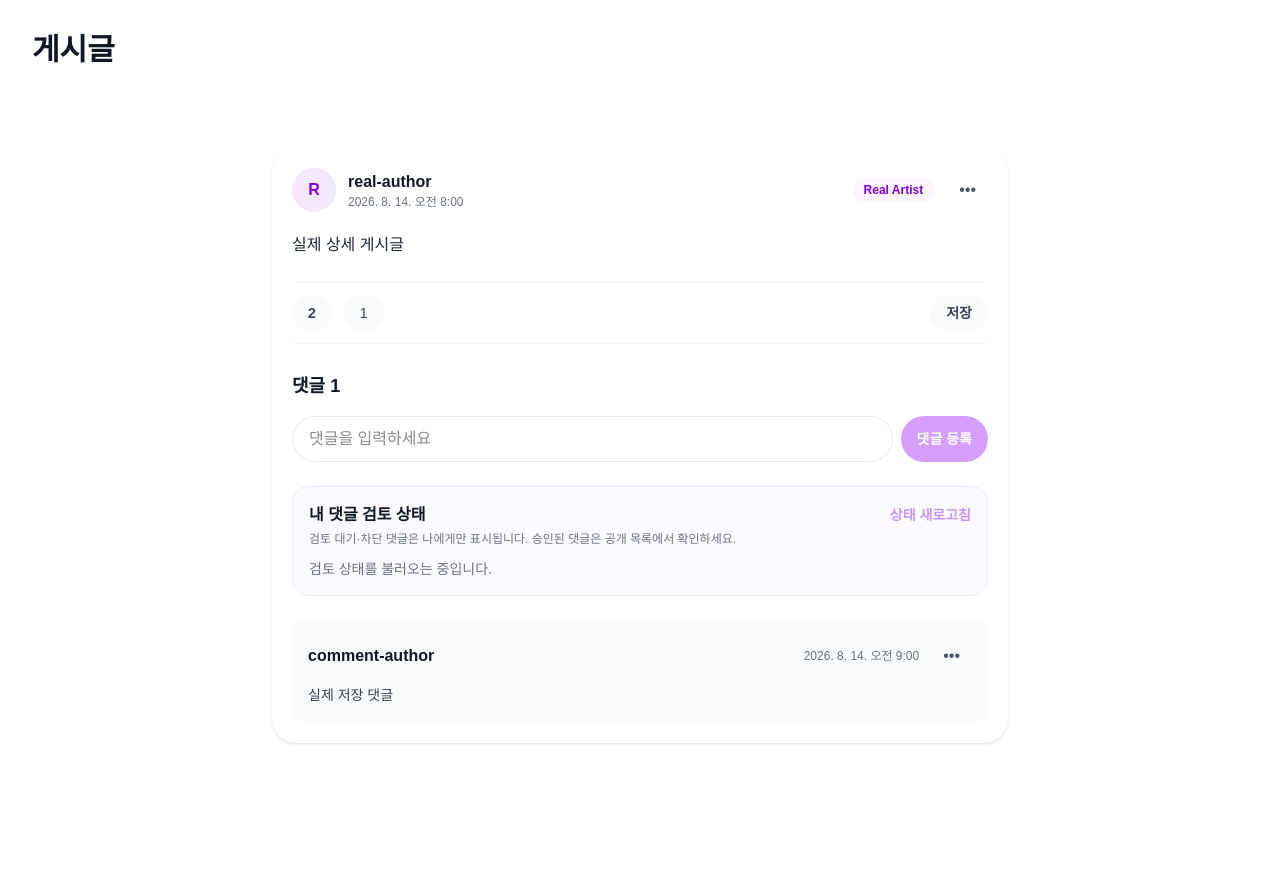
Test case: PostDetailPage › renders the server post only after successful content-only editing
Expected: the text "실제 상세 게시글" is shown, [292,236,404,253]
Click the heading named "게시글 작업" at (968, 190), box [959,181,976,198]
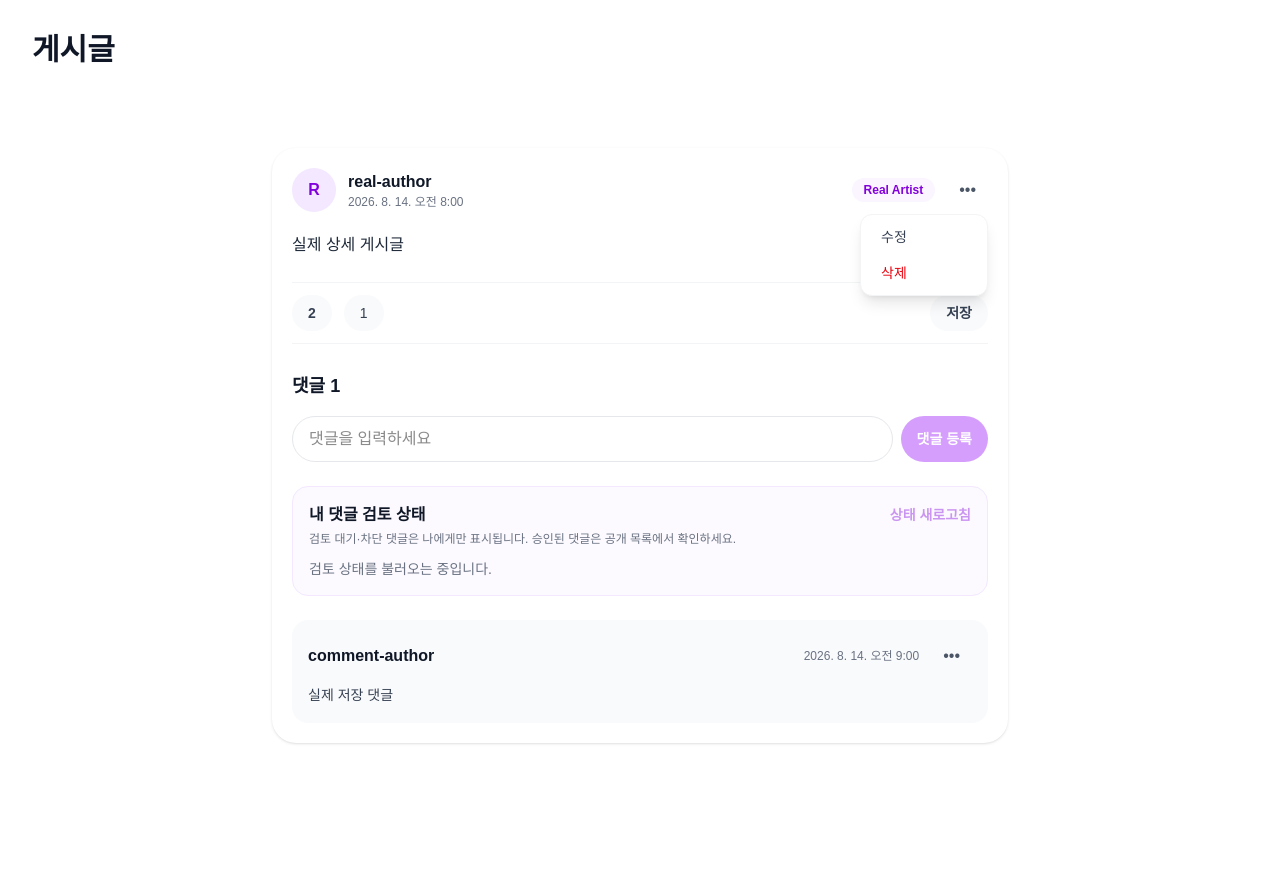
Click the button "수정" at (924, 237), box [865,219,983,255]
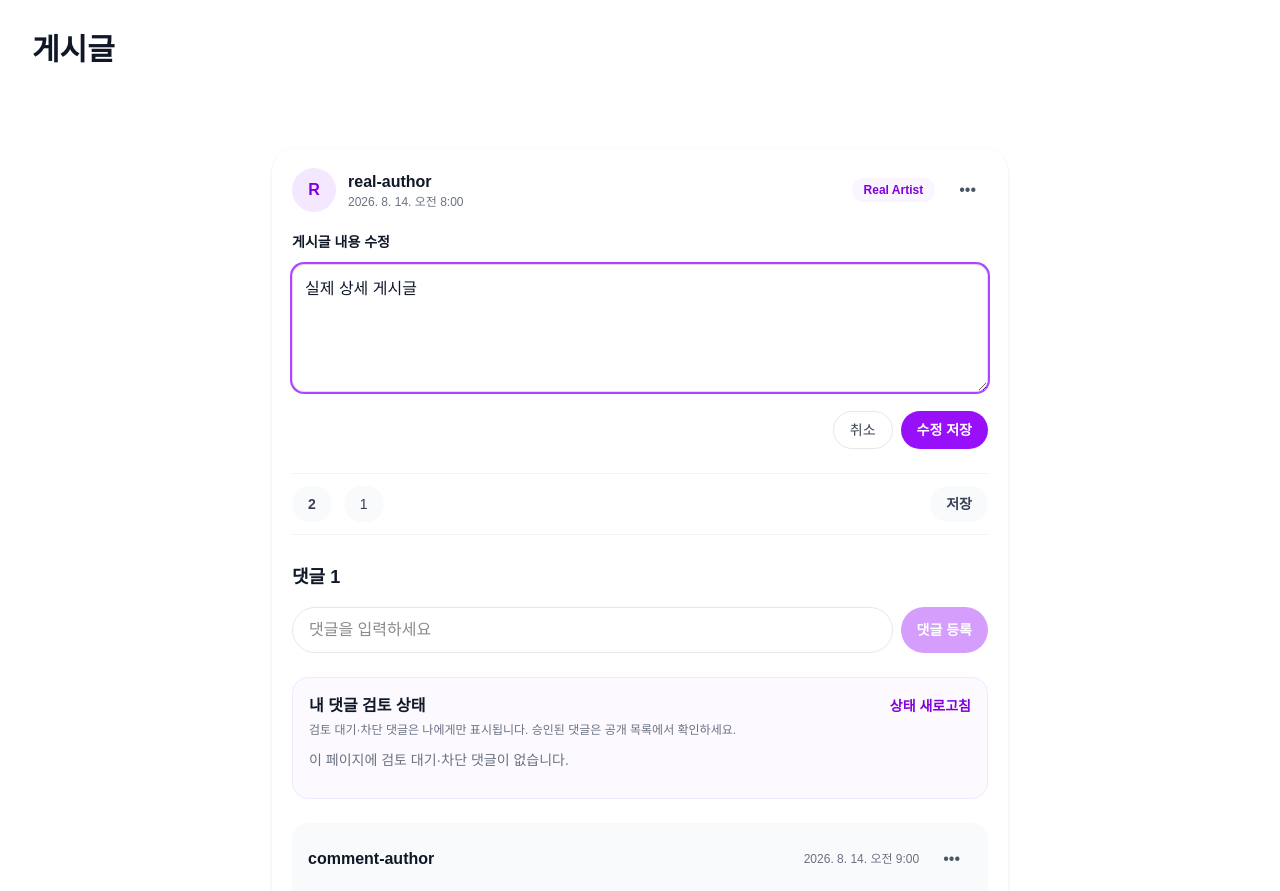
Replace the text in the text box labelled "게시글 내용 수정" with "  수정된 게시글  " at (640, 328), box [292,264,988,392]
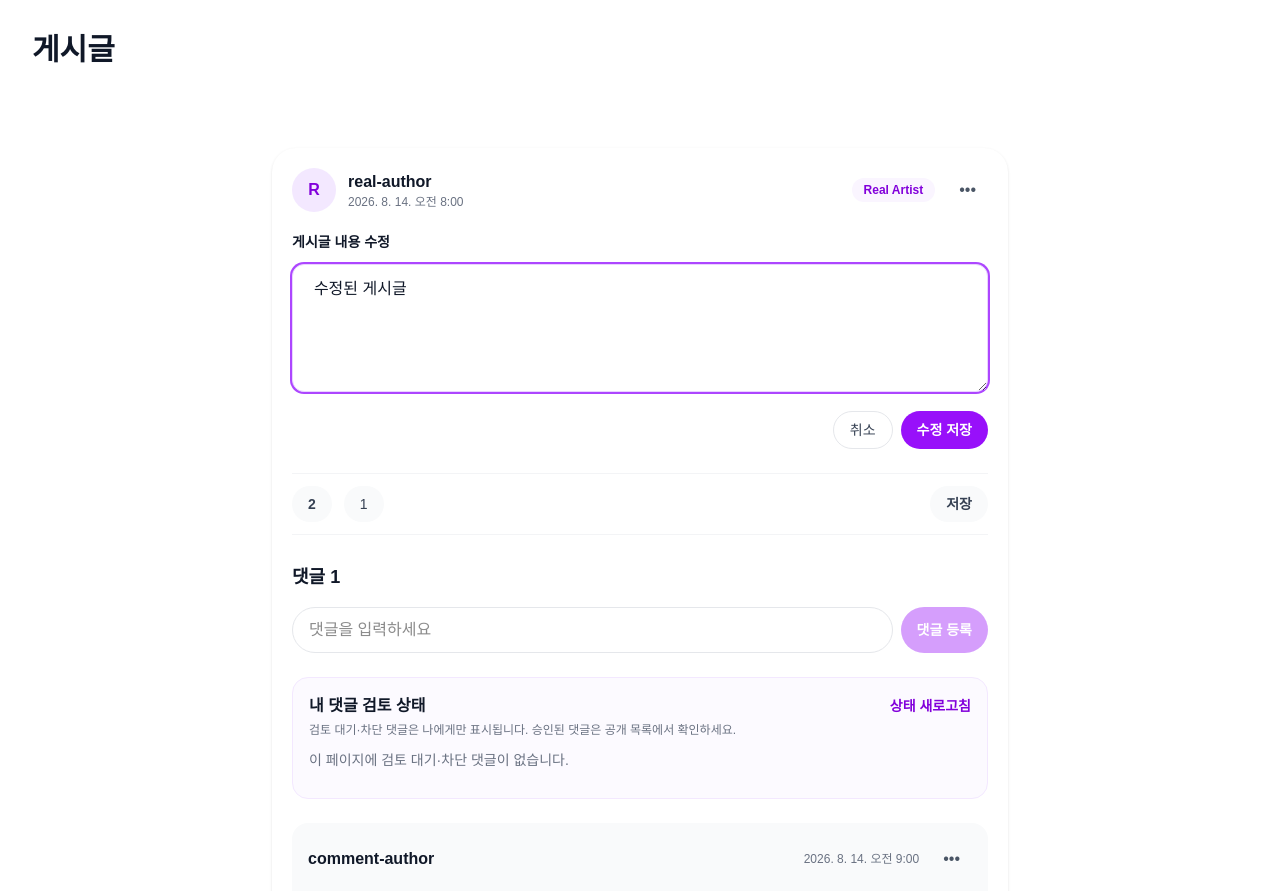
Click the button "수정 저장" at (944, 430), box [901,411,988,449]
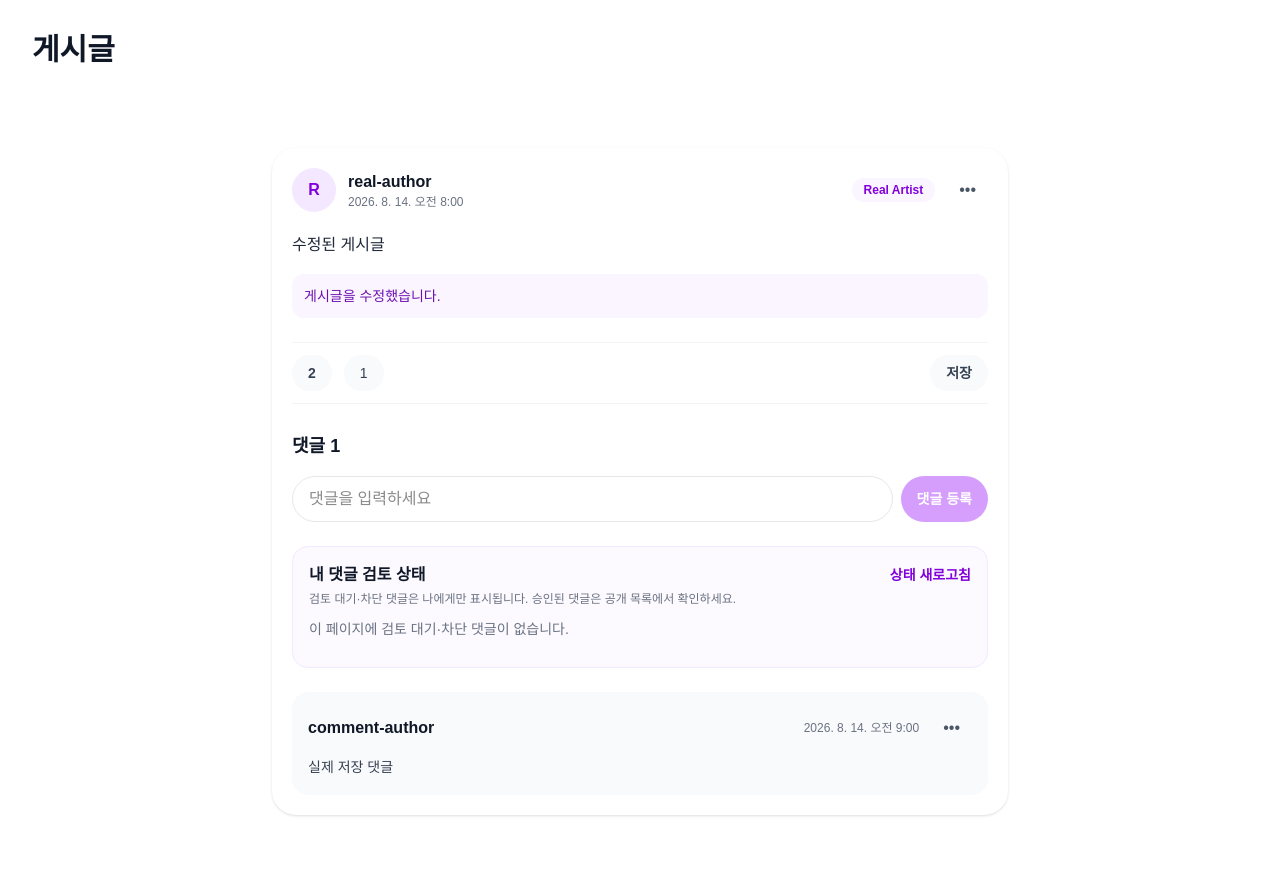
Expected: the text "수정된 게시글" is shown, [292,236,385,253]
Expected: the label labelled "게시글 내용 수정" is gone
